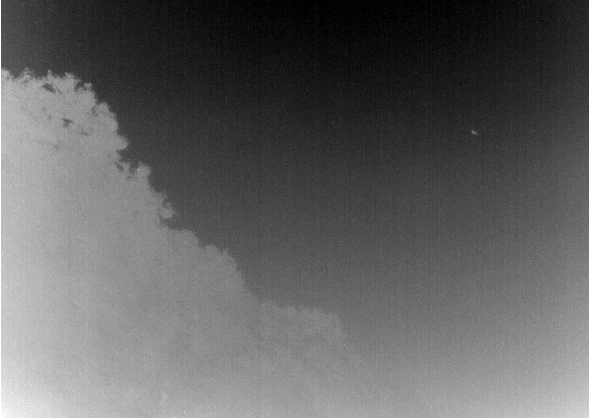dim target: (469, 127, 479, 135)
